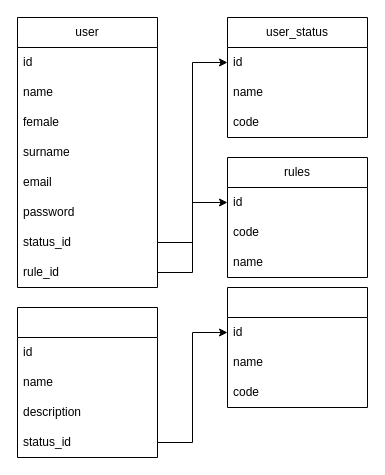
Image size: 385x475. Some labels were removed from this diagram. Each missing label, with the box of its shape:
products: (16, 306, 158, 458)
status: (226, 286, 368, 408)
